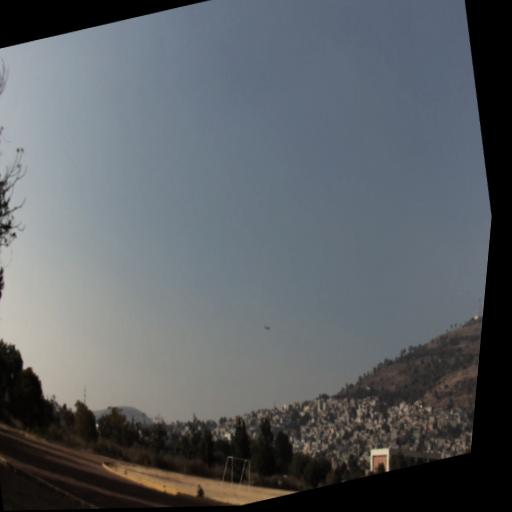drones: (263, 324, 272, 331)
